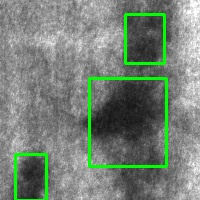patches: (89, 78, 166, 166), (125, 14, 164, 63), (15, 154, 46, 200)
